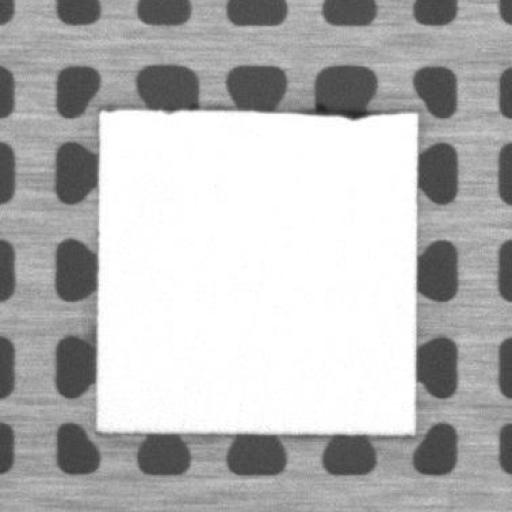DIE_BROKEN: (275, 102, 419, 120)
